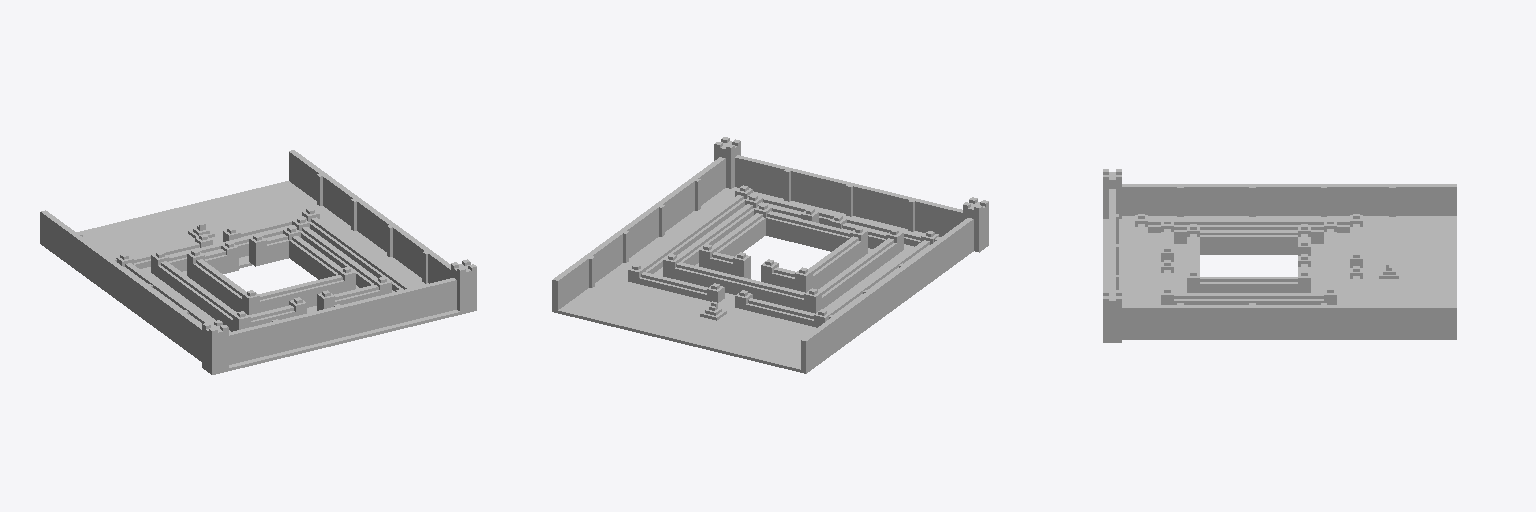
The model's file is 03_pedestal_hedges_2X.obj.
3 views of the same model, side by side, from view 1: azimuth 30°, elevation 25°; view 2: azimuth 150°, elevation 25°; view 3: azimuth 270°, elevation 25° (orthographic).
Size of the model in its own units: 94 by 15 by 109.